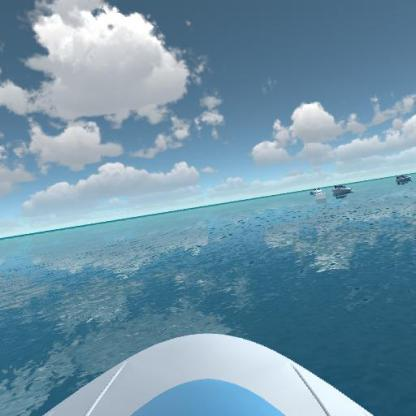usv1: (393, 168, 415, 188), (332, 180, 355, 199), (307, 184, 325, 198)
